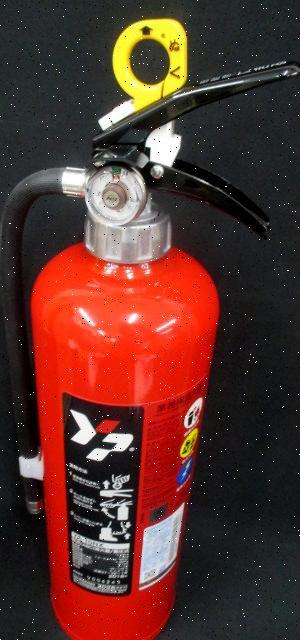Fire Extinguisher: (10, 28, 300, 640)
